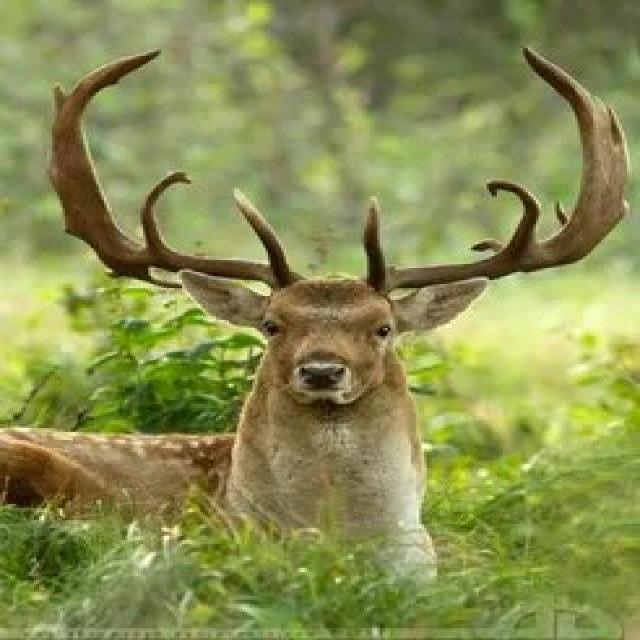deer: (16, 98, 464, 526)
